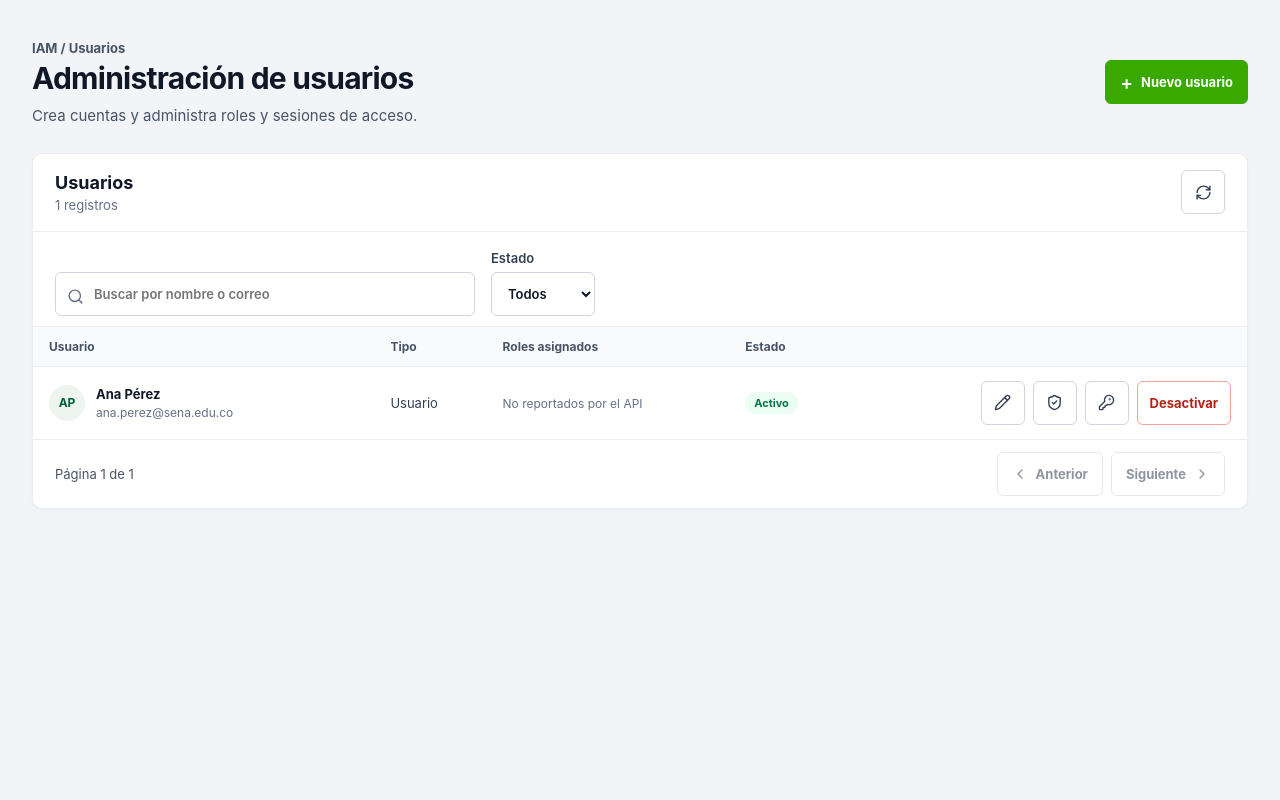
Test: HU-IAM-015 UsersPage › places a duplicate-email conflict inline on the email field
The width and height of the screenshot is (1280, 800).
Expected: the text "Ana Pérez" is shown, x1=96 y1=386 x2=160 y2=402
Click the button "+ Nuevo usuario" at coordinates (1177, 82), box x1=1105 y1=60 x2=1248 y2=104
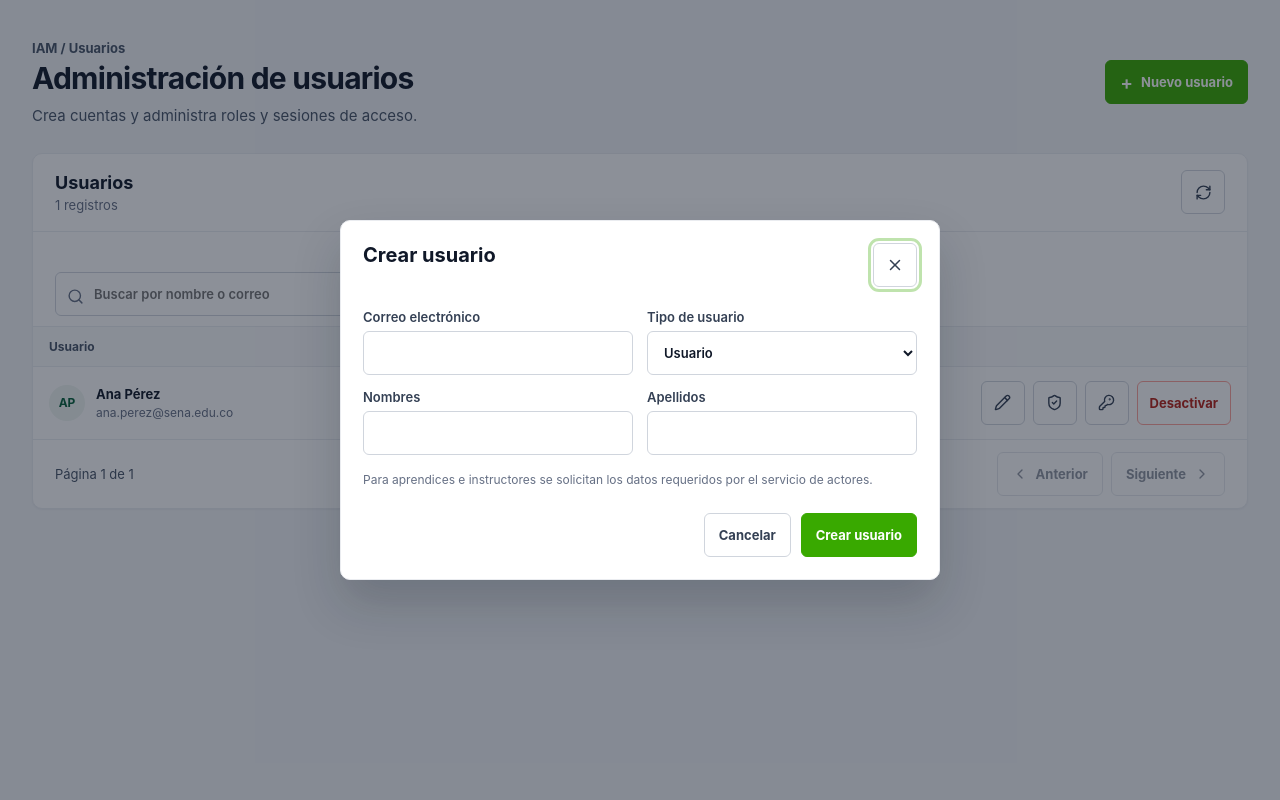
Type "ana.perez@sena.edu.co" into the field labelled "Correo electrónico" at coordinates (498, 353), box x1=363 y1=331 x2=633 y2=375
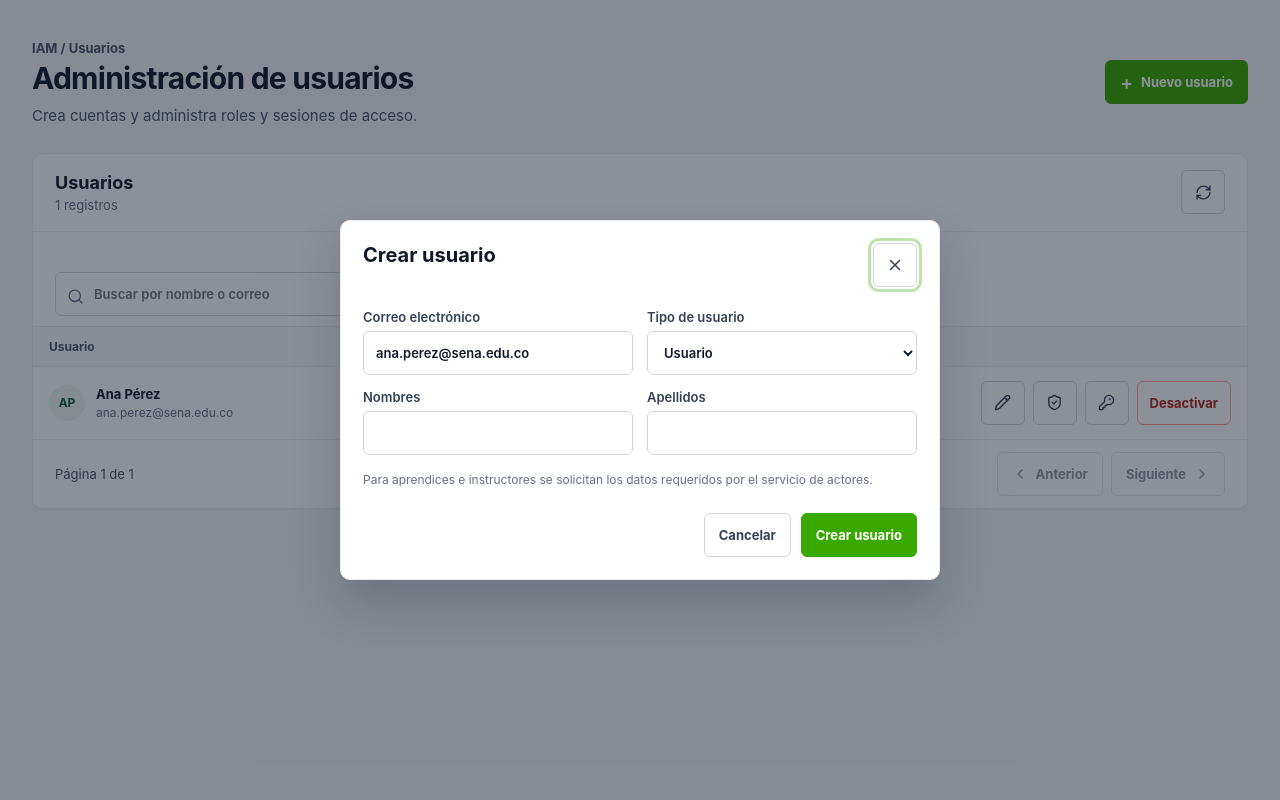
Type "Ana" into the field labelled "Nombres" at coordinates (498, 433), box x1=363 y1=411 x2=633 y2=455
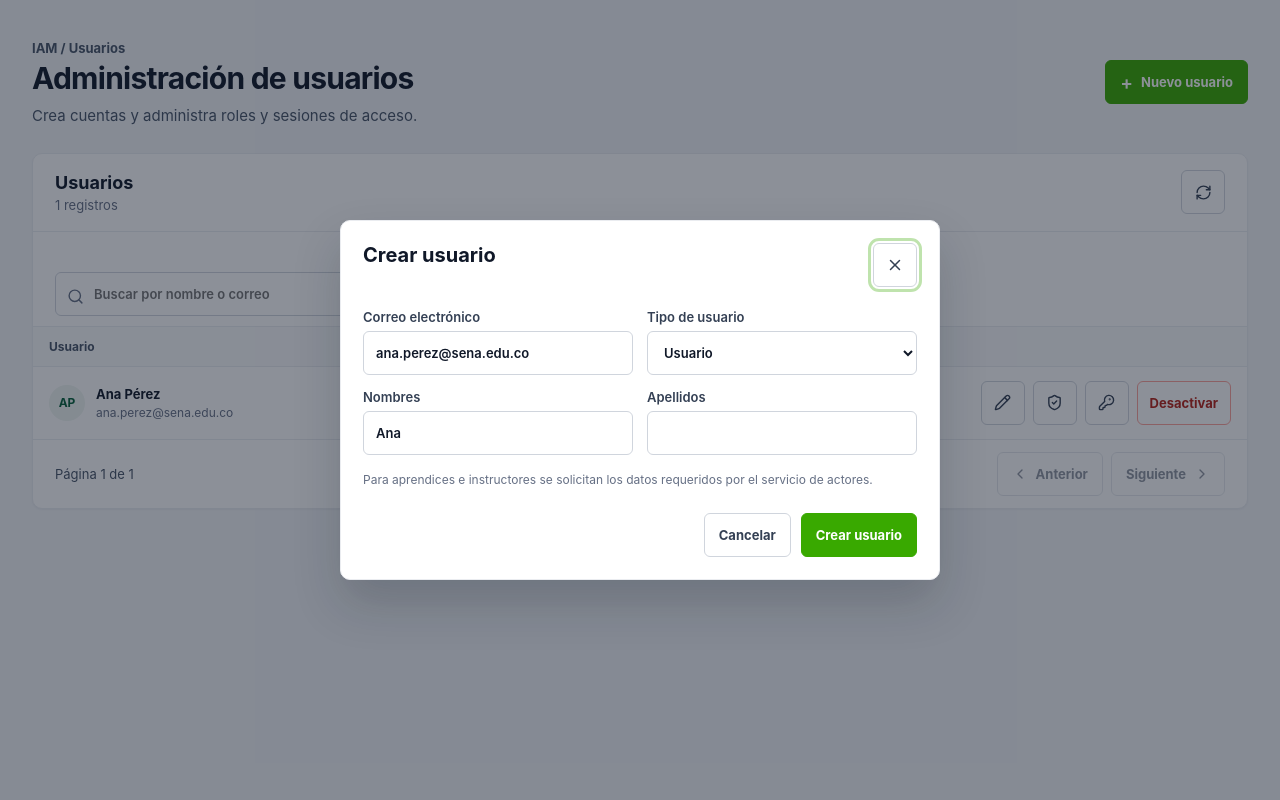
Type "Pérez" into the field labelled "Apellidos" at coordinates (782, 433), box x1=647 y1=411 x2=917 y2=455
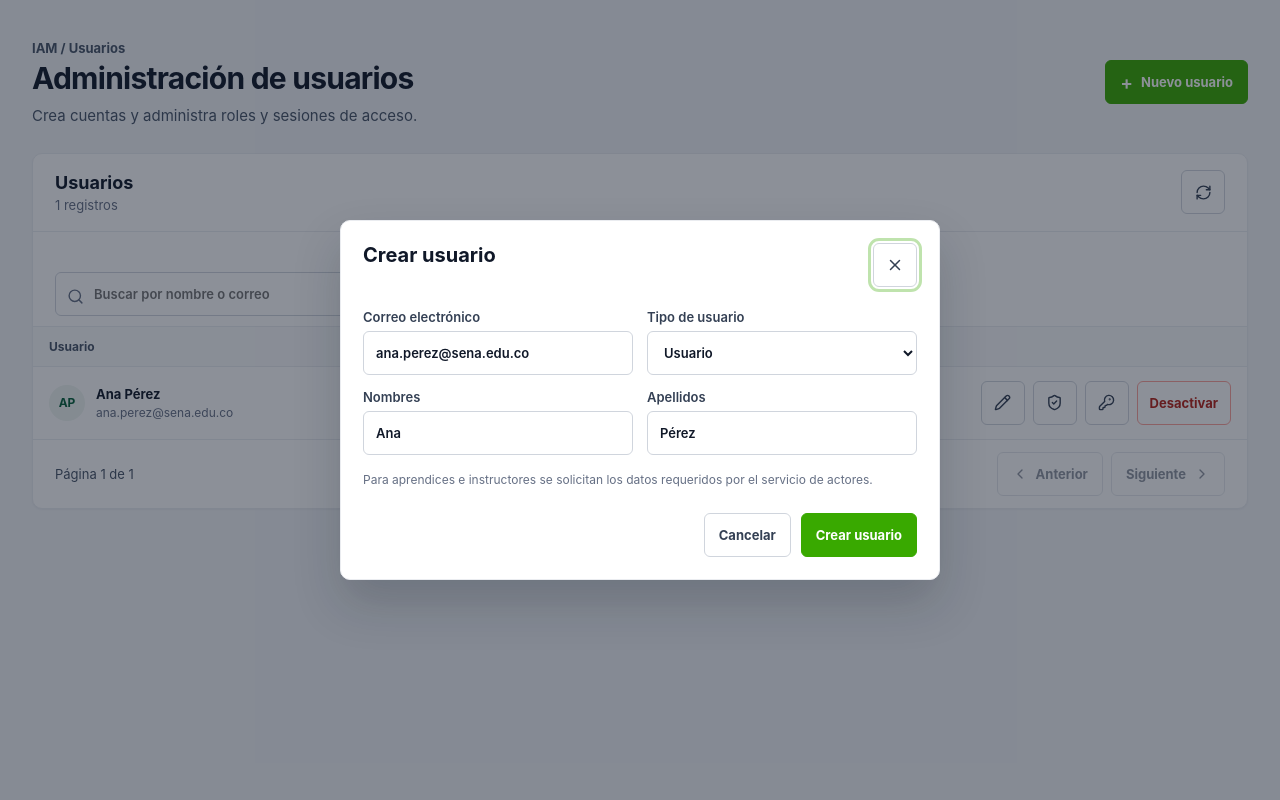
Click the button "Crear usuario" at coordinates (859, 535), box x1=801 y1=513 x2=917 y2=557
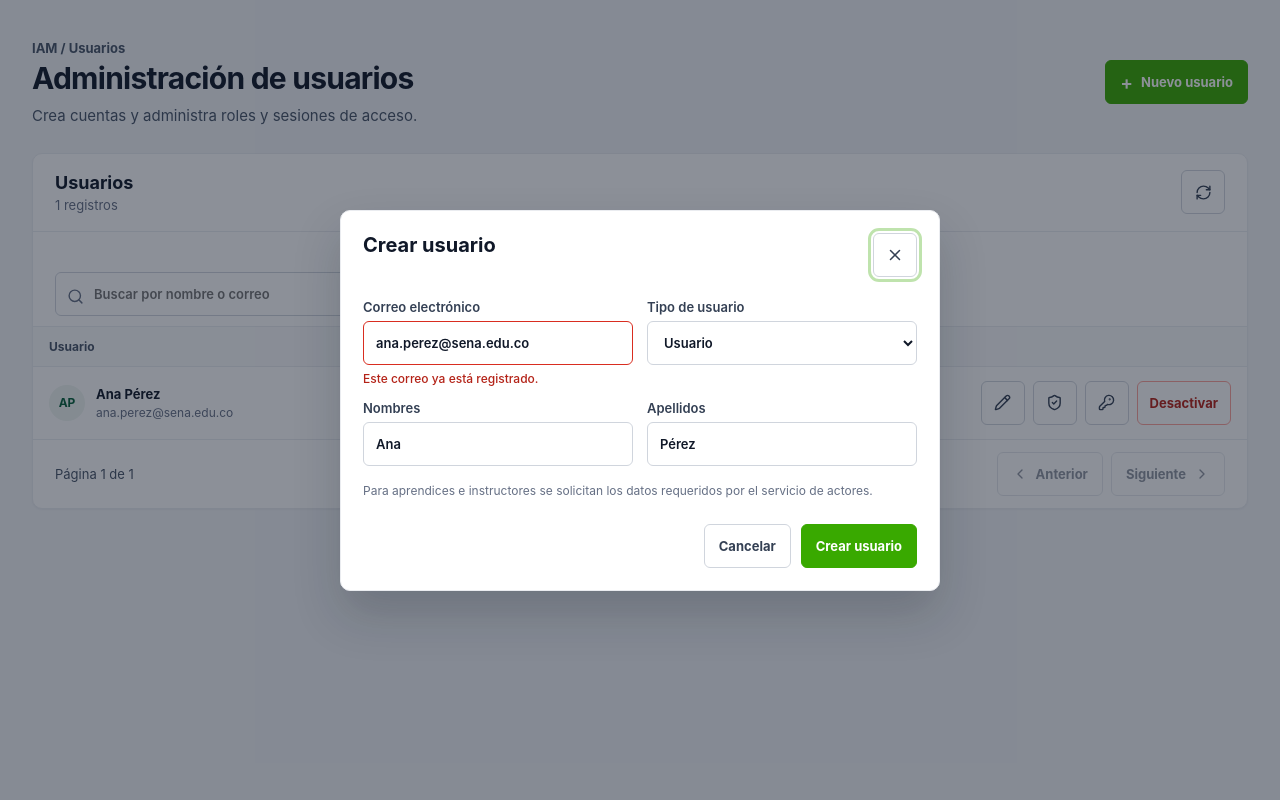
Expected: the text "Este correo ya está registrado." is shown, x1=363 y1=370 x2=538 y2=386
